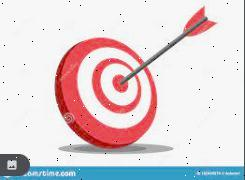target_red: (54, 36, 158, 149)
